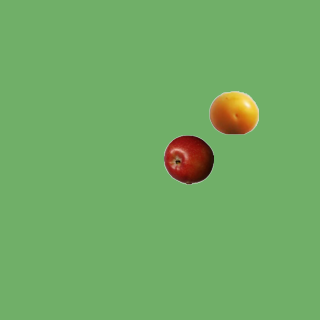Apple Braeburn: (163, 134, 213, 184)
Cherry Wax Yellow: (208, 87, 258, 137)
